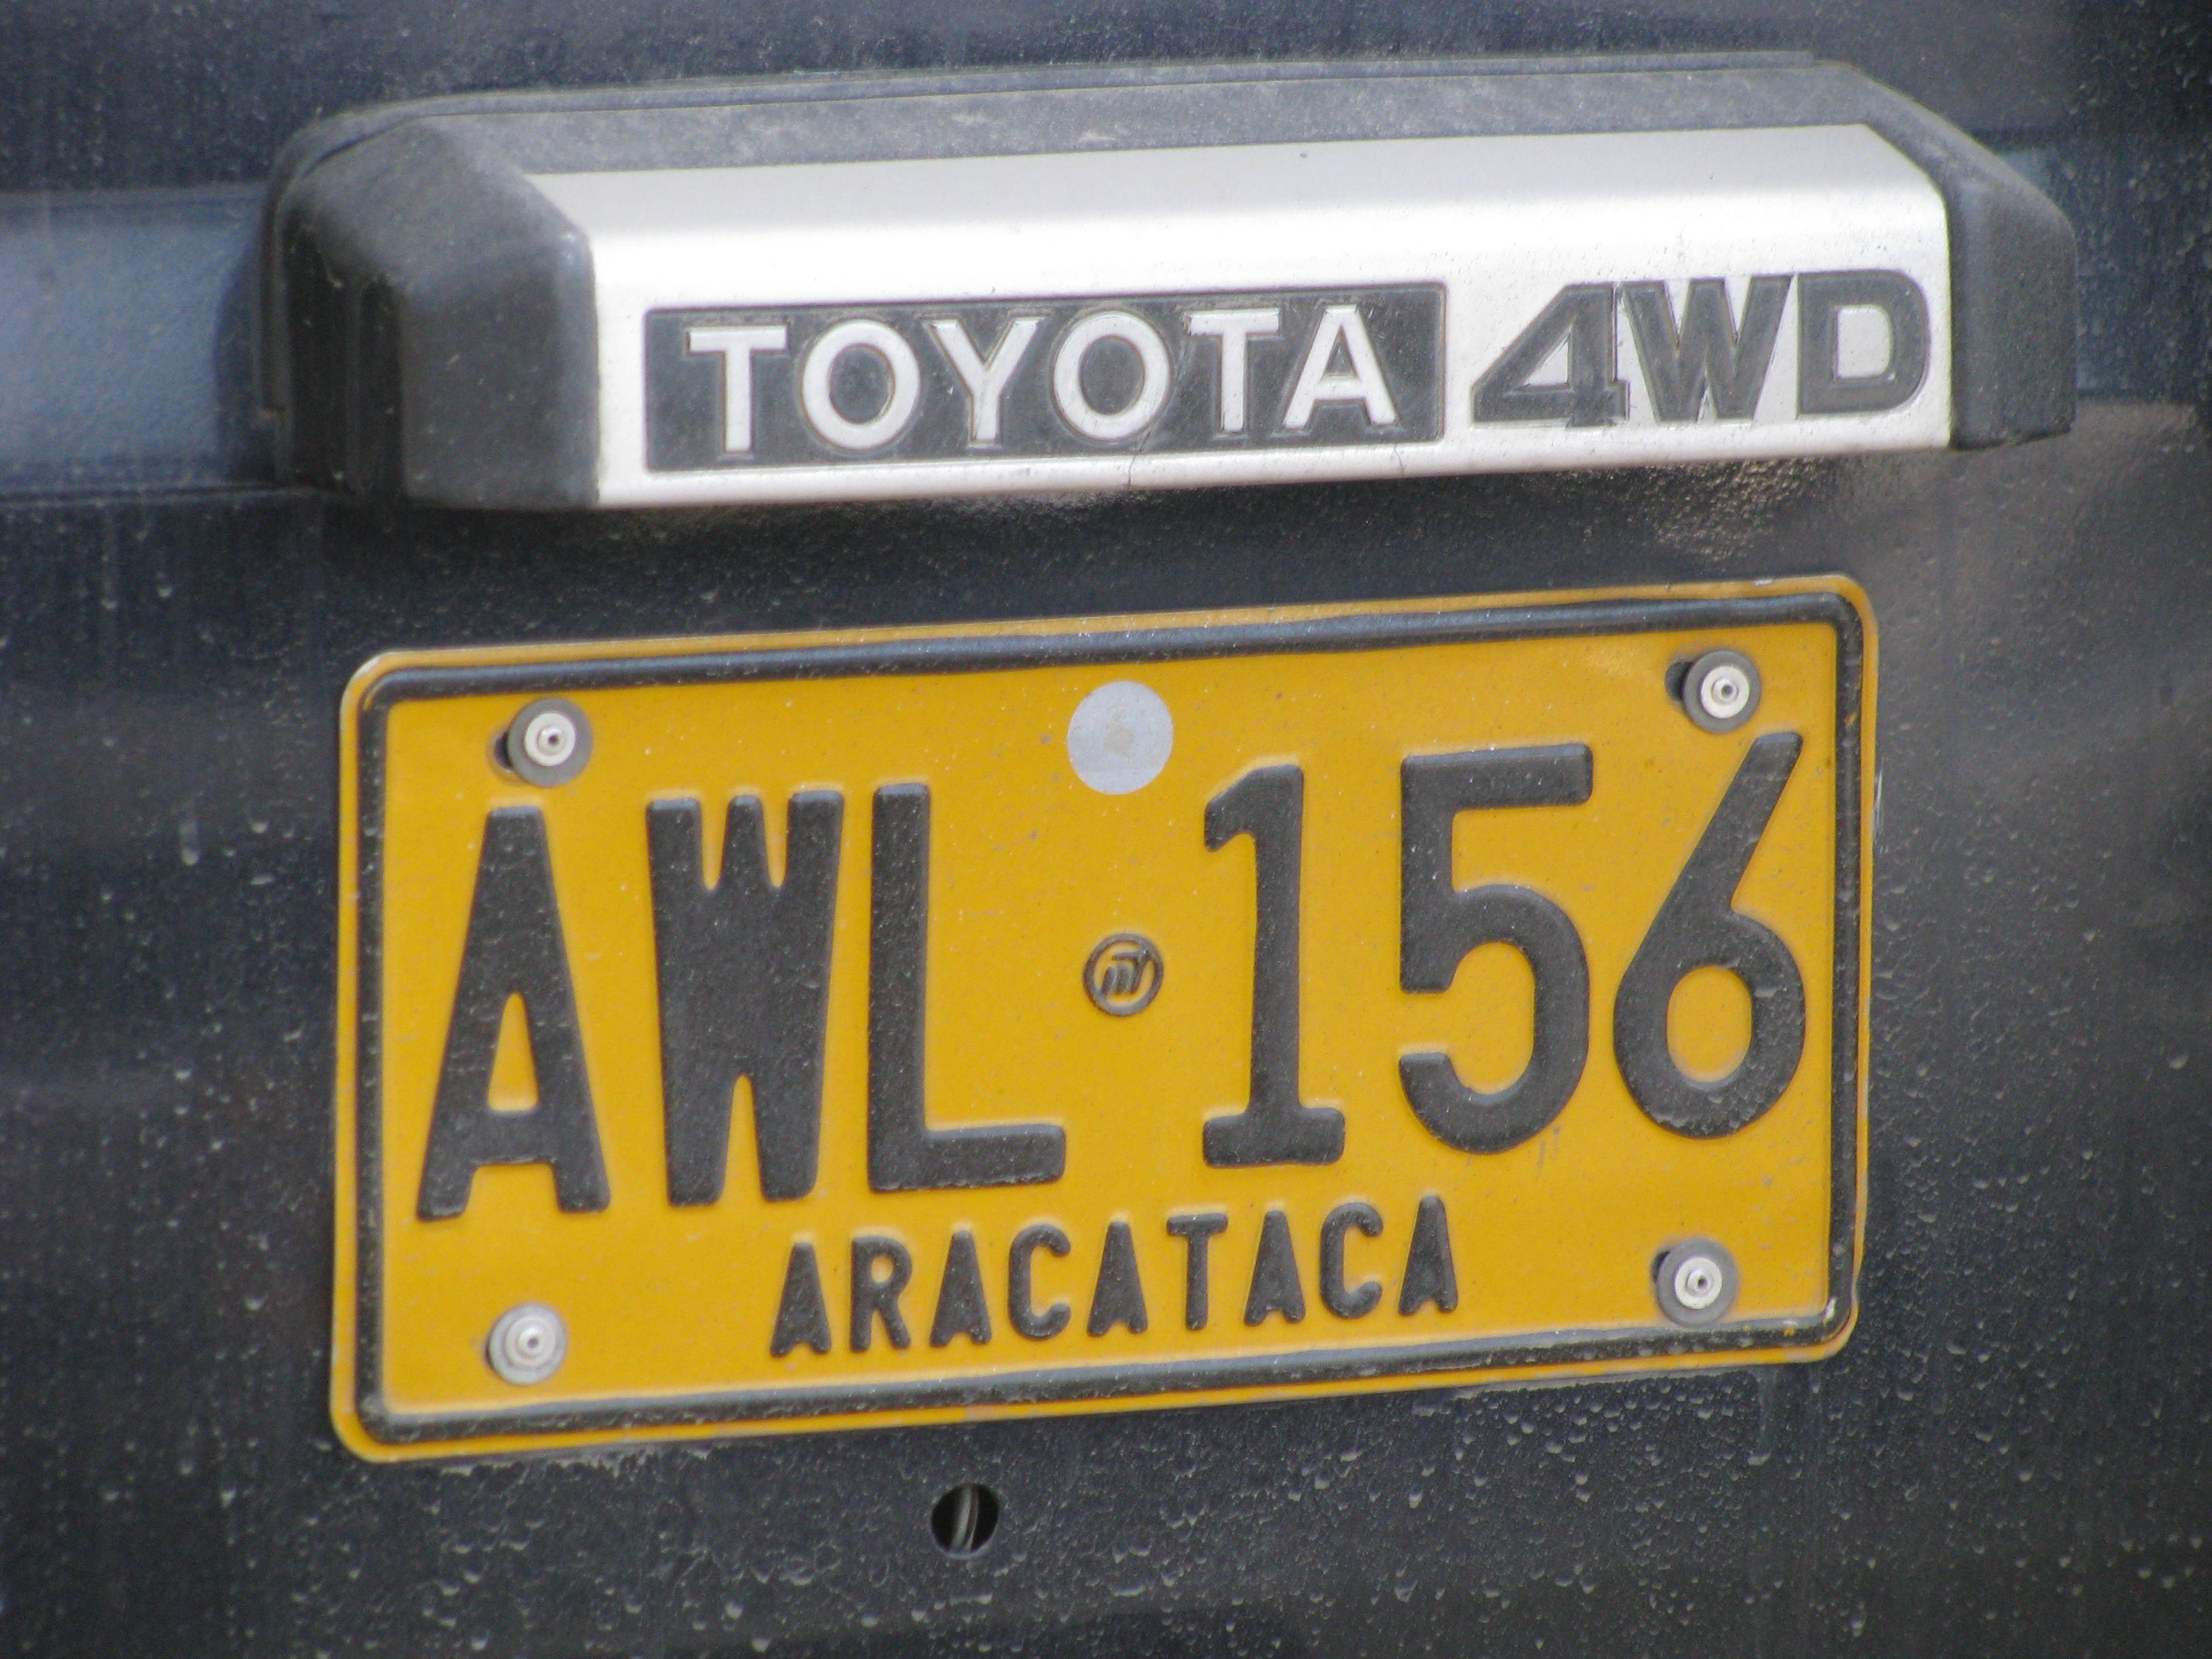placas: (323, 565, 1881, 1471)
